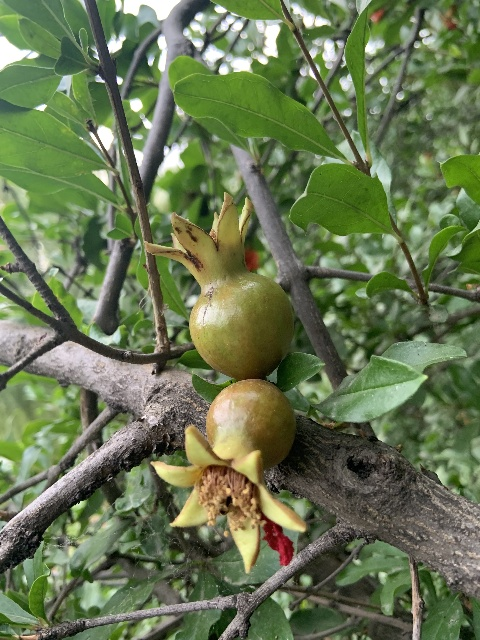early-fruit: (150, 379, 307, 573)
mid-growth: (144, 191, 296, 380)
